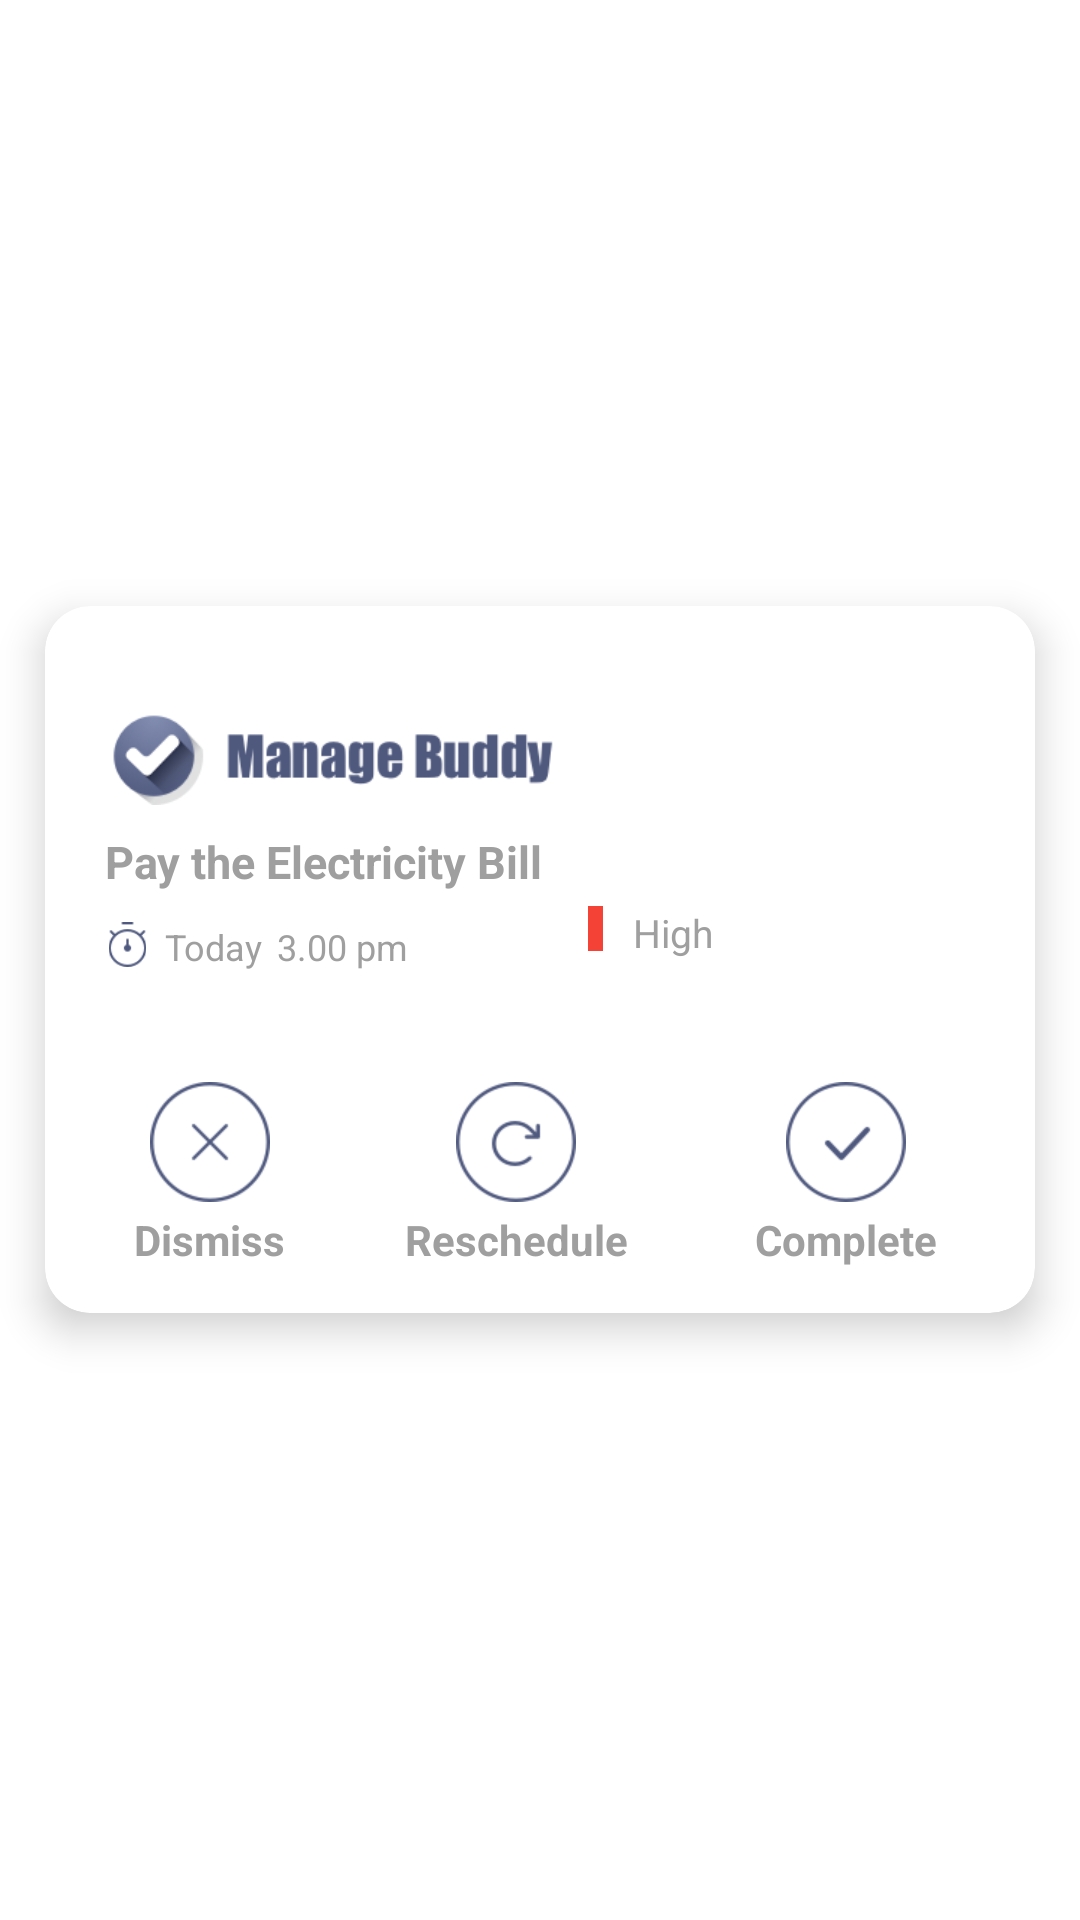

Where icons sit on this 1080 x 1920 app screen, as (x1, y1, x2, y2):
time: (109, 922, 146, 967)
